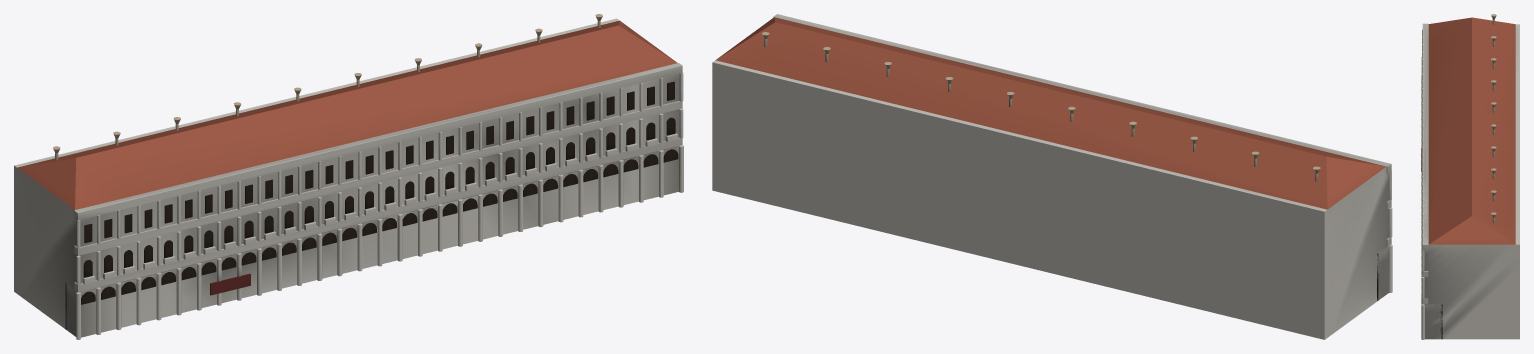
File: procuratie-nuove.glb
3 views of the same model, side by side, from view 1: azimuth 30°, elevation 25°; view 2: azimuth 150°, elevation 25°; view 3: azimuth 270°, elevation 25° (orthographic). The views are drawn at different scales.
Visible parts, largest first — view 1: p0_orders, p1_roof; view 2: p0_orders, p1_roof; view 3: p1_roof, p0_orders.
Boxes of the visible parts, box(x1,y1,x2,y2) form: p0_orders: box(14, 18, 683, 339); p1_roof: box(17, 14, 677, 295); p0_orders: box(712, 14, 1392, 339); p1_roof: box(715, 17, 1385, 209); p1_roof: box(1421, 14, 1515, 244); p0_orders: box(1421, 23, 1519, 339).
Bounding box in the file's own units: 121 × 28.6 × 22.75.
